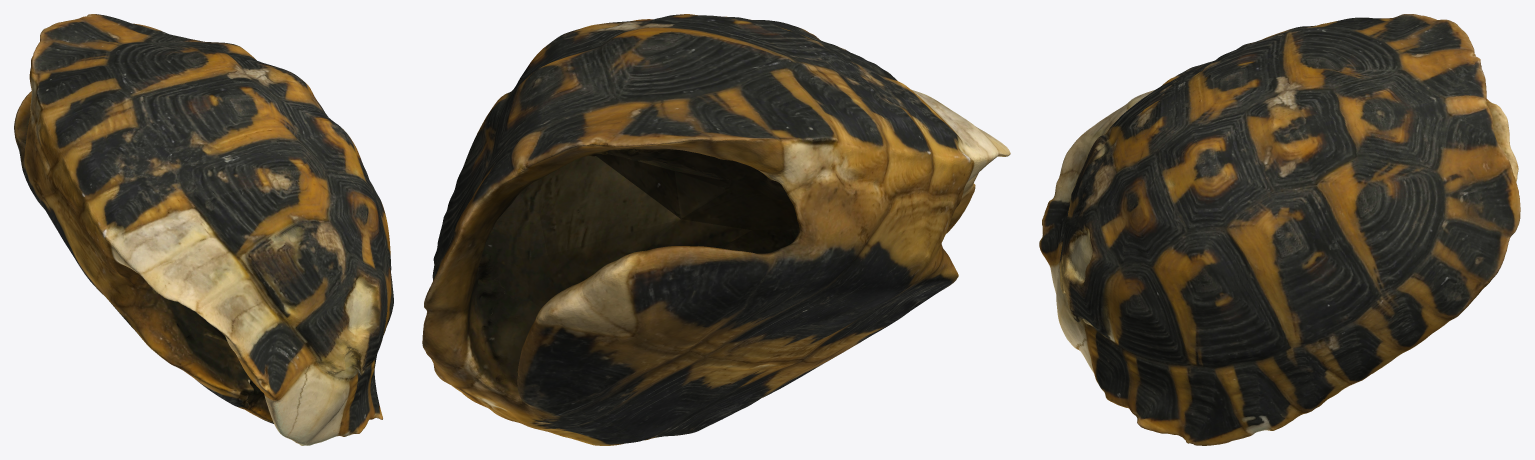
File: MZUR3D-025.glb
3 views of the same model, side by side, from view 1: azimuth 30°, elevation 25°; view 2: azimuth 150°, elevation 25°; view 3: azimuth 270°, elevation 25° (orthographic). The views are drawn at different scales.
Visible parts, largest first — view 1: MZUR3D-025; view 2: MZUR3D-025; view 3: MZUR3D-025.
Boxes of the visible parts, x1,y1,x2,y2 form: MZUR3D-025: [14, 14, 393, 445]; MZUR3D-025: [422, 14, 1010, 445]; MZUR3D-025: [1039, 14, 1520, 445].
Bounding box in the file's own units: 0.5674 × 0.6084 × 0.8007.
1 material, 1 textured.
